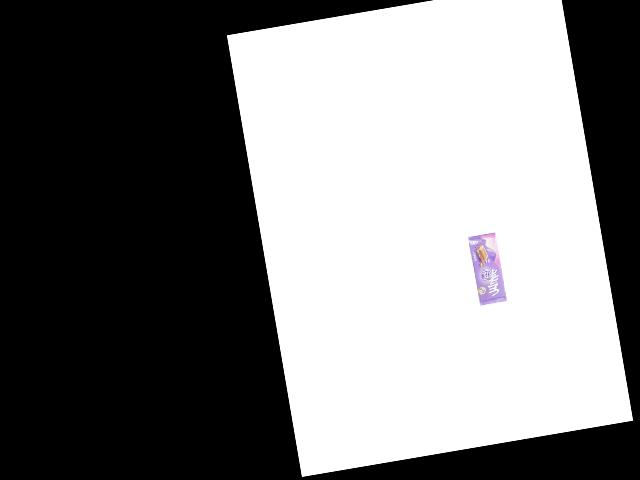chocolate: (466, 232, 507, 306)
